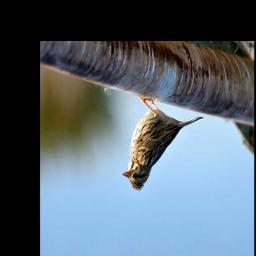Sparrow: (121, 97, 204, 192)
